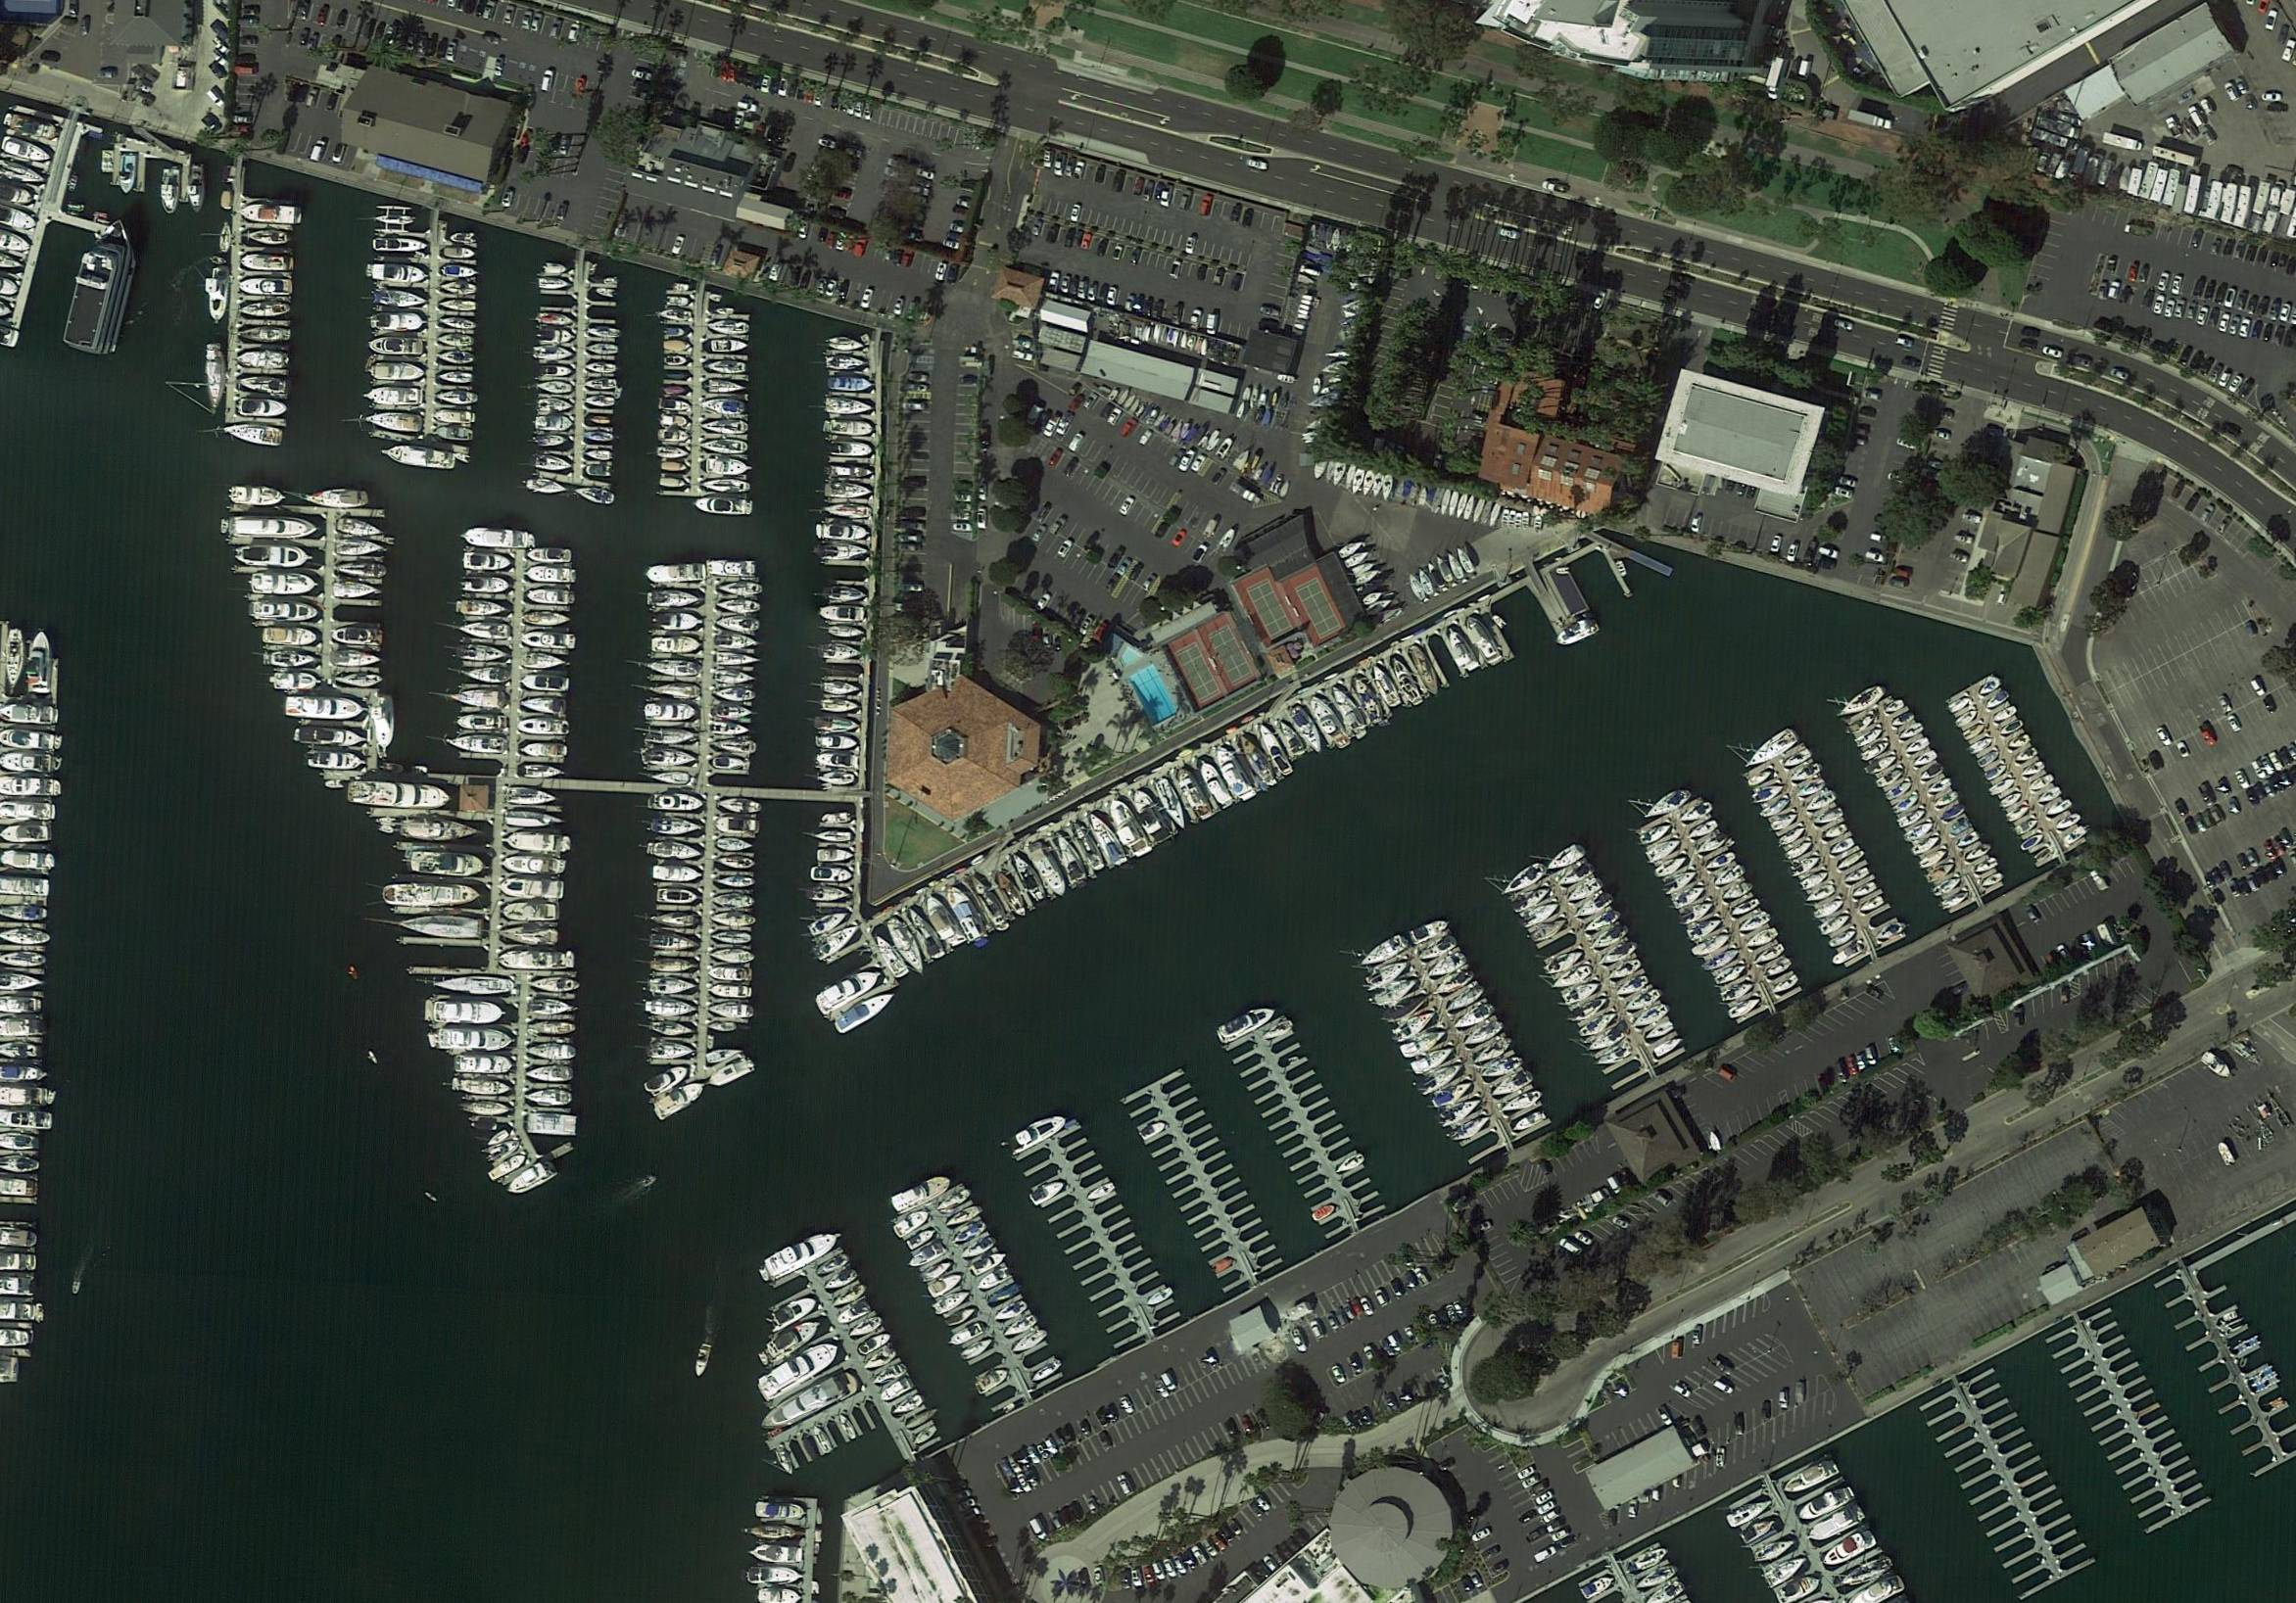harbor: (874, 577, 1558, 979), (698, 1244, 946, 1514), (290, 769, 572, 949), (1368, 928, 1556, 1172), (1509, 856, 1689, 1097), (230, 501, 387, 767), (892, 1183, 1066, 1420), (1014, 1120, 1186, 1357), (2, 101, 150, 372), (2, 621, 70, 1205), (1637, 799, 1806, 1033), (1120, 1069, 1288, 1301), (1745, 743, 1909, 977), (1846, 689, 2008, 923), (1225, 1015, 1391, 1244), (647, 808, 759, 1118), (396, 965, 581, 1127), (1945, 675, 2088, 867), (457, 546, 576, 766), (639, 579, 761, 788), (372, 225, 476, 460), (656, 288, 748, 501), (222, 178, 297, 429), (536, 269, 618, 492), (785, 905, 900, 1024), (823, 347, 885, 569), (818, 581, 874, 792), (476, 1106, 576, 1191), (754, 1495, 818, 1601), (815, 792, 864, 907)
ship: (59, 213, 148, 363), (755, 1369, 862, 1439), (755, 1338, 843, 1402), (761, 1226, 843, 1282), (813, 963, 885, 1015), (881, 914, 932, 982), (832, 987, 899, 1038), (1104, 795, 1153, 863), (347, 780, 452, 811), (1005, 1109, 1069, 1158), (762, 1315, 825, 1364), (1739, 724, 1802, 773), (967, 872, 1014, 935), (890, 1170, 954, 1216), (944, 881, 989, 944), (921, 891, 968, 951), (1026, 839, 1071, 900), (904, 904, 947, 963), (653, 1076, 708, 1122), (1131, 787, 1174, 844), (1174, 762, 1216, 822), (1214, 745, 1256, 804), (380, 883, 480, 907), (382, 441, 459, 473), (1087, 809, 1129, 867), (1237, 731, 1279, 788), (1462, 611, 1504, 668), (1307, 692, 1349, 747), (1834, 682, 1889, 722), (400, 914, 485, 940), (1256, 722, 1295, 780), (400, 816, 483, 842), (229, 516, 318, 541), (766, 1294, 820, 1334), (506, 1158, 560, 1198), (1008, 849, 1049, 904), (1329, 682, 1370, 736), (1153, 776, 1192, 832), (1640, 785, 1696, 823), (284, 696, 365, 722), (811, 921, 864, 961), (1288, 705, 1328, 757), (410, 851, 485, 879), (1050, 830, 1089, 884), (1406, 644, 1445, 698), (236, 544, 314, 570), (1357, 931, 1408, 972), (1497, 860, 1549, 898), (3, 110, 63, 143), (0, 134, 56, 169), (1350, 675, 1389, 726), (436, 1027, 515, 1052), (1197, 759, 1233, 811), (1071, 820, 1106, 874), (1417, 1059, 1466, 1097), (993, 869, 1029, 919), (1399, 1024, 1450, 1061), (433, 999, 506, 1024), (204, 342, 229, 415), (644, 1062, 693, 1099), (874, 931, 911, 980), (705, 1055, 755, 1090), (1380, 991, 1431, 1026), (1553, 616, 1603, 651), (26, 631, 54, 694), (1391, 1008, 1438, 1045), (434, 975, 516, 996), (206, 263, 234, 324), (1436, 1094, 1485, 1129), (499, 876, 567, 900), (1373, 975, 1420, 1010), (1364, 956, 1411, 991), (297, 726, 368, 748), (504, 830, 571, 855), (1391, 658, 1424, 706), (1410, 1043, 1455, 1078), (1549, 961, 1596, 994), (1429, 1078, 1476, 1111), (1446, 626, 1479, 673), (249, 600, 318, 623), (1462, 1017, 1506, 1052), (1432, 966, 1476, 1001), (1471, 1034, 1516, 1068), (464, 525, 530, 548), (251, 572, 318, 595), (1542, 945, 1588, 979), (1490, 1068, 1535, 1101), (1443, 984, 1488, 1017), (241, 202, 302, 227), (373, 692, 398, 752), (1544, 841, 1588, 874), (1453, 999, 1497, 1033), (447, 733, 509, 755), (504, 809, 567, 832), (501, 855, 569, 876), (307, 487, 370, 509), (1448, 1113, 1493, 1144), (1479, 1052, 1525, 1083), (1370, 665, 1401, 710), (5, 628, 26, 694), (1574, 890, 1616, 923), (499, 924, 560, 947), (307, 748, 368, 771), (1511, 883, 1555, 914), (1520, 898, 1563, 930), (1528, 914, 1572, 945), (806, 907, 850, 938), (1425, 951, 1469, 982), (223, 424, 283, 447), (365, 410, 424, 433), (487, 1151, 529, 1183), (892, 1207, 933, 1238), (1561, 977, 1603, 1008), (1417, 933, 1459, 965), (905, 1240, 947, 1272), (1691, 930, 1732, 961), (499, 951, 567, 970), (2, 703, 59, 726), (262, 626, 319, 649), (370, 262, 427, 284), (1500, 1087, 1544, 1116), (930, 1287, 974, 1317), (230, 485, 286, 508), (1582, 907, 1623, 938), (647, 563, 707, 584), (1598, 938, 1640, 968), (1699, 945, 1741, 975), (237, 323, 291, 345), (644, 996, 698, 1019), (1408, 916, 1452, 944), (502, 900, 560, 921), (647, 794, 705, 815), (696, 495, 754, 516), (1558, 860, 1596, 891), (1277, 720, 1309, 759), (1565, 876, 1605, 905), (1010, 1327, 1050, 1357), (1029, 1177, 1069, 1207), (1631, 1001, 1671, 1031), (522, 630, 577, 651), (455, 1055, 515, 1074), (365, 385, 424, 405), (1591, 923, 1630, 952), (946, 1202, 984, 1231), (974, 1366, 1012, 1395), (1645, 836, 1684, 865), (1624, 986, 1663, 1015), (748, 1544, 803, 1565), (970, 1249, 1010, 1277), (1685, 914, 1725, 942), (450, 689, 508, 708), (455, 644, 508, 665), (506, 787, 558, 808), (647, 588, 700, 609), (237, 349, 290, 370), (651, 816, 703, 837), (832, 1282, 869, 1312), (872, 1361, 909, 1390), (642, 748, 698, 767), (935, 1186, 974, 1214), (1607, 956, 1645, 984), (960, 1235, 998, 1263), (975, 1266, 1014, 1294), (926, 1272, 965, 1299), (1725, 994, 1764, 1022), (1671, 883, 1710, 911), (1678, 898, 1717, 926), (525, 563, 576, 584), (239, 398, 290, 419), (653, 841, 703, 862), (649, 931, 700, 952), (459, 621, 513, 640), (516, 717, 571, 736), (647, 658, 701, 677), (644, 703, 698, 722), (644, 727, 698, 747), (372, 363, 426, 382), (864, 1345, 899, 1374), (823, 1266, 860, 1294), (836, 1299, 872, 1327), (879, 1376, 916, 1404), (825, 396, 874, 417), (377, 288, 426, 309), (986, 1280, 1022, 1308), (918, 1258, 954, 1286), (1712, 961, 1748, 989), (1736, 909, 1773, 937), (1663, 867, 1699, 895), (529, 975, 581, 994), (651, 612, 703, 631), (525, 1041, 577, 1061), (747, 1566, 804, 1584), (331, 626, 384, 645), (335, 560, 387, 579), (161, 166, 180, 218), (239, 300, 291, 319), (239, 277, 291, 297), (372, 312, 424, 331), (244, 227, 291, 248), (576, 483, 616, 508), (848, 1313, 883, 1341), (953, 1219, 987, 1247), (994, 1298, 1029, 1326), (1640, 820, 1675, 848), (1804, 788, 1839, 816), (1750, 780, 1785, 808), (462, 666, 513, 686), (243, 253, 293, 272), (815, 1252, 851, 1279), (947, 1320, 984, 1347), (958, 1336, 994, 1362), (1003, 1313, 1040, 1340), (1616, 973, 1652, 999), (1712, 863, 1748, 890), (1680, 799, 1717, 825), (1652, 855, 1689, 881), (370, 337, 424, 354), (651, 865, 705, 883), (462, 553, 511, 572), (525, 1088, 574, 1108), (333, 649, 382, 668), (237, 375, 286, 394), (825, 481, 874, 501), (825, 502, 874, 522), (649, 977, 698, 996), (892, 1392, 925, 1420), (1903, 818, 1937, 846), (1753, 940, 1787, 968), (1830, 940, 1863, 968), (857, 1331, 892, 1357), (755, 1502, 808, 1519), (461, 1101, 513, 1118), (818, 642, 862, 663), (1511, 1108, 1546, 1134), (1029, 1359, 1064, 1385), (1720, 979, 1755, 1005), (1745, 926, 1780, 952), (1874, 917, 1909, 944), (1818, 911, 1853, 937), (1788, 851, 1823, 877), (522, 673, 569, 692), (523, 609, 571, 628), (464, 576, 511, 595), (529, 1019, 576, 1038), (337, 518, 384, 537), (333, 581, 380, 600), (651, 956, 698, 975), (942, 1305, 979, 1329), (457, 713, 508, 731), (651, 637, 701, 654), (649, 682, 700, 699), (748, 1525, 799, 1542), (461, 1078, 511, 1095), (188, 164, 206, 215), (372, 237, 427, 253), (532, 452, 574, 473), (522, 652, 567, 672), (717, 795, 762, 815), (707, 457, 752, 476), (705, 1043, 743, 1066), (1722, 879, 1755, 905), (1696, 830, 1729, 856), (1790, 761, 1823, 787), (520, 696, 569, 713), (527, 588, 576, 605), (459, 600, 508, 617), (525, 1066, 574, 1083), (1865, 752, 1900, 776), (532, 998, 576, 1017), (712, 736, 759, 754), (337, 539, 384, 556), (274, 673, 321, 691), (818, 604, 865, 621), (827, 377, 874, 394), (827, 419, 874, 436), (823, 523, 871, 541), (823, 544, 871, 562), (653, 911, 700, 928), (708, 1001, 755, 1019), (773, 1444, 797, 1477), (489, 1137, 522, 1162), (905, 1226, 939, 1251), (1938, 888, 1971, 912), (1924, 860, 1958, 884), (1916, 848, 1949, 872), (1860, 740, 1893, 764), (1844, 713, 1877, 738), (1729, 897, 1762, 921), (1705, 849, 1738, 874), (1804, 883, 1837, 907), (1813, 804, 1846, 829), (1759, 797, 1792, 822), (715, 816, 761, 834), (815, 715, 860, 733), (715, 616, 761, 633), (270, 651, 316, 668), (712, 911, 757, 928), (651, 1041, 696, 1059), (1335, 1151, 1366, 1176), (1795, 776, 1827, 801), (1783, 839, 1814, 863), (120, 153, 138, 197), (830, 441, 874, 459), (525, 478, 569, 495), (810, 867, 853, 884), (1813, 898, 1846, 921), (1776, 825, 1809, 848), (522, 743, 569, 759), (337, 672, 384, 687), (701, 419, 748, 434), (827, 464, 874, 480), (707, 966, 754, 982), (817, 734, 858, 752), (715, 633, 757, 651), (693, 1343, 714, 1378), (434, 408, 476, 426), (656, 888, 698, 905), (810, 886, 851, 904), (836, 1413, 860, 1443), (1336, 537, 1366, 562), (1364, 595, 1394, 619), (1771, 972, 1801, 996), (1764, 956, 1794, 980), (1689, 818, 1719, 842), (715, 652, 761, 668), (719, 581, 764, 597), (708, 984, 754, 999), (1432, 553, 1455, 584), (1406, 572, 1429, 604), (1931, 876, 1963, 898), (1910, 834, 1942, 856), (1896, 808, 1928, 830), (1884, 780, 1916, 802), (1855, 726, 1886, 748), (1987, 776, 2019, 799), (1654, 1034, 1685, 1057), (1837, 849, 1869, 872), (1828, 928, 1860, 951), (714, 703, 754, 720), (529, 548, 572, 563), (714, 687, 757, 703), (436, 389, 480, 405), (653, 1022, 696, 1038), (712, 947, 755, 963), (1645, 1019, 1673, 1043), (2062, 823, 2090, 848), (811, 1425, 834, 1455), (1965, 842, 1994, 865), (1893, 792, 1923, 815), (1876, 767, 1905, 790), (1087, 1181, 1117, 1204), (1801, 869, 1830, 891), (1842, 865, 1872, 888), (1783, 748, 1813, 771), (1771, 811, 1801, 834), (820, 698, 858, 715), (829, 586, 867, 604), (827, 354, 865, 372), (714, 670, 755, 686), (703, 398, 745, 413), (714, 893, 755, 909), (717, 598, 762, 612), (703, 440, 748, 454), (1139, 1120, 1167, 1143), (1984, 689, 2012, 712), (1898, 720, 1926, 743), (1910, 748, 1938, 771), (2027, 771, 2055, 794), (2036, 785, 2064, 808), (651, 771, 691, 787), (434, 426, 475, 441), (708, 321, 748, 337), (714, 930, 754, 945), (1445, 551, 1466, 581), (1455, 546, 1476, 576), (1415, 567, 1436, 597), (1425, 562, 1446, 591), (1991, 705, 2020, 726), (701, 480, 752, 492), (817, 754, 860, 767), (438, 349, 473, 366), (823, 680, 862, 696), (712, 720, 750, 736), (827, 624, 865, 640), (436, 333, 475, 349), (708, 380, 747, 396), (1830, 836, 1856, 858), (525, 766, 567, 780), (1343, 549, 1371, 570), (1968, 734, 1996, 755), (2019, 832, 2047, 853), (1933, 790, 1961, 811), (1903, 736, 1931, 757), (2055, 811, 2083, 832), (1746, 767, 1774, 788), (712, 338, 748, 354), (829, 337, 865, 352), (539, 328, 576, 344), (536, 415, 572, 431), (717, 837, 754, 853), (536, 312, 576, 326), (714, 755, 748, 771), (485, 1129, 511, 1149), (539, 345, 574, 361), (1310, 1202, 1336, 1223), (1954, 708, 1980, 729), (1975, 748, 2001, 769), (1940, 802, 1966, 823), (1917, 762, 1944, 783), (1860, 895, 1886, 916), (817, 849, 855, 863), (1354, 569, 1382, 588), (1982, 762, 2010, 781), (1926, 776, 1954, 795), (2047, 799, 2074, 818), (658, 445, 691, 460), (1349, 467, 1366, 497), (818, 771, 855, 785), (441, 281, 478, 295), (586, 324, 623, 338), (537, 398, 574, 412), (717, 876, 754, 890), (719, 856, 755, 870), (815, 829, 851, 842), (1956, 830, 1980, 851), (1978, 677, 2003, 698), (1211, 1256, 1237, 1275), (1973, 856, 1999, 876), (1961, 722, 1987, 741), (1998, 790, 2024, 809), (2005, 804, 2031, 823), (1851, 881, 1877, 900), (218, 222, 234, 253), (441, 265, 482, 277), (707, 361, 747, 373), (440, 300, 478, 312), (1352, 560, 1377, 579), (1999, 719, 2024, 738), (1980, 870, 2005, 890), (1949, 696, 1973, 715), (1891, 710, 1916, 729), (2006, 733, 2031, 752), (2020, 761, 2045, 780), (1380, 473, 1396, 502), (443, 246, 476, 260), (440, 372, 473, 385), (586, 342, 619, 356), (539, 277, 572, 291), (539, 380, 572, 394), (1486, 502, 1504, 529), (2013, 818, 2040, 836), (440, 317, 476, 330), (658, 429, 689, 443), (659, 398, 691, 412), (586, 394, 618, 408), (584, 429, 616, 443), (1471, 497, 1486, 525), (1361, 469, 1377, 497), (1370, 471, 1385, 499), (1361, 588, 1384, 607), (658, 309, 693, 321), (1825, 823, 1849, 841), (1446, 490, 1460, 520), (1462, 495, 1478, 522), (584, 379, 618, 391), (2015, 747, 2038, 764), (822, 811, 850, 825), (1479, 499, 1493, 527), (1455, 492, 1469, 520), (1439, 488, 1453, 516), (586, 361, 618, 373), (541, 365, 572, 377), (536, 434, 567, 447), (1884, 698, 1905, 715), (708, 1020, 738, 1033), (663, 340, 691, 352), (661, 460, 689, 473), (659, 415, 687, 427), (586, 464, 611, 476), (659, 478, 687, 488), (665, 356, 687, 368), (584, 450, 611, 460), (544, 263, 569, 274), (450, 234, 476, 242), (591, 415, 611, 424)
swimming pool: (1127, 665, 1179, 727)
tennis court: (1295, 579, 1343, 640), (1246, 579, 1295, 640), (1174, 642, 1221, 705), (1207, 626, 1254, 687)
